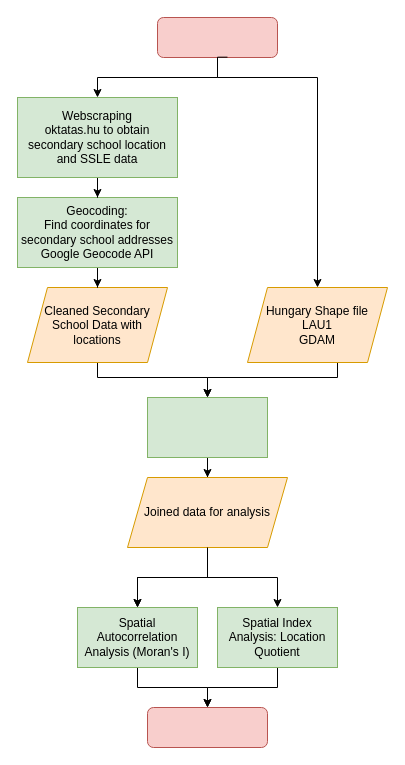
Image size: 405x765. Some labels were removed from this diagram. The shapes that lost their labels are listed below. From the top down, each one's centre as x and y in pixels, then its label:
point (217, 37): Start
point (207, 427): Join data and calculate FLPS
point (207, 727): End
